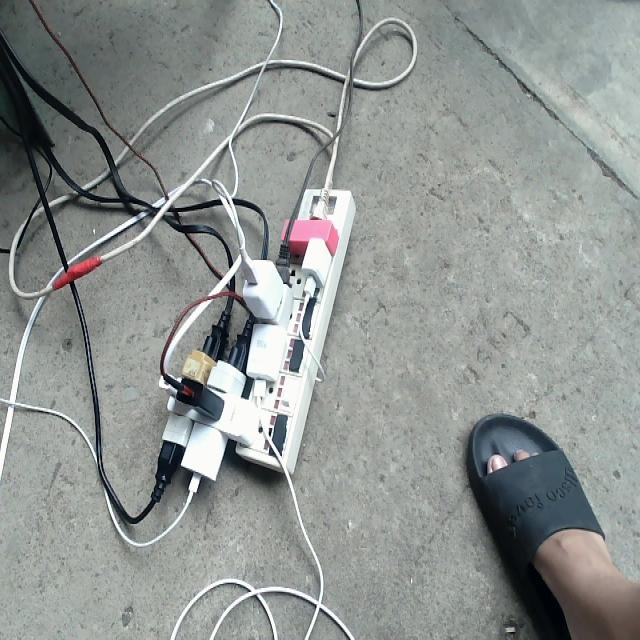-: (149, 186, 356, 510)
